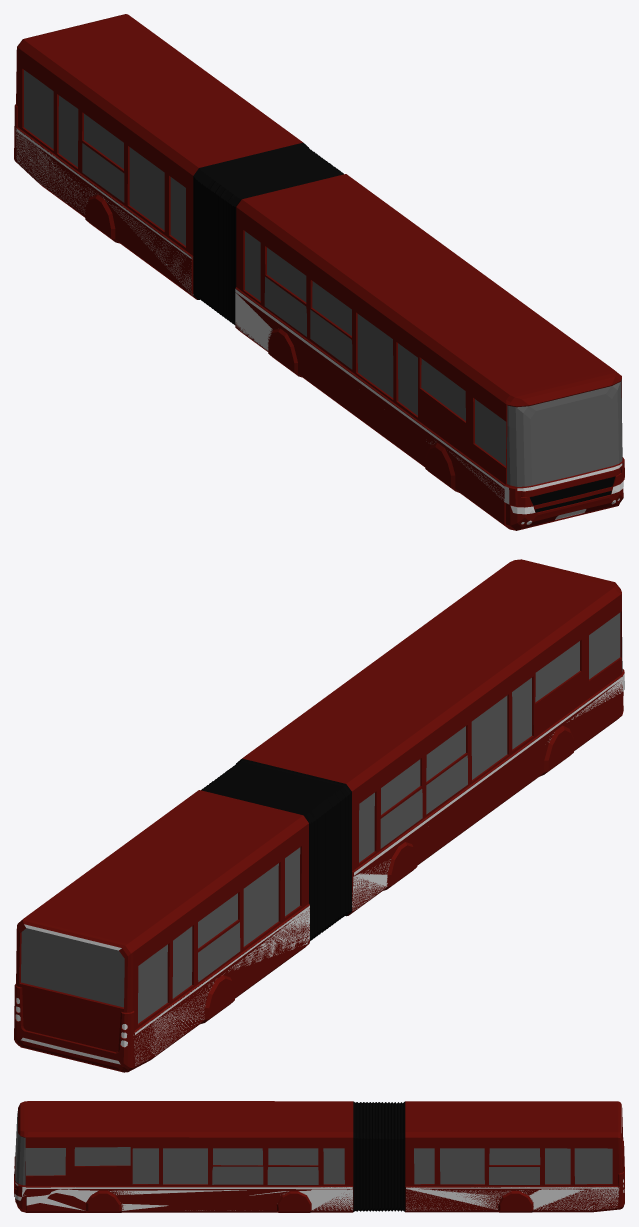
The picture shows the model from 3 angles, top to bottom: view 1: azimuth 30°, elevation 25°; view 2: azimuth 150°, elevation 25°; view 3: azimuth 270°, elevation 25°; orthographic projection. The views are drawn at different scales.
Parts seen in each view (by area): view 1: Cube, Cube.003, Cube.006, Cube.002, Cube.007, Cube.012, Cube.001; view 2: Cube, Cube.003, Cube.006, Cube.007; view 3: Cube, Cube.003, Cube.007, Cube.006, Cube.002.
Boxes of the visible parts, x1,y1,x2,y2 form: Cube: (14,14,624,530); Cube.003: (24,70,506,465); Cube.006: (193,142,343,325); Cube.002: (507,379,622,486); Cube.007: (15,128,509,504); Cube.012: (529,476,615,512); Cube.001: (510,463,623,524); Cube: (14,559,624,1072); Cube.003: (21,612,620,1023); Cube.006: (201,758,351,940); Cube.007: (133,673,624,1065); Cube: (14,1101,624,1212); Cube.003: (25,1147,612,1184); Cube.007: (22,1187,619,1210); Cube.006: (353,1101,405,1211); Cube.002: (15,1111,25,1185).
Size of the model in its own units: 55.72 by 57.24 by 392.
